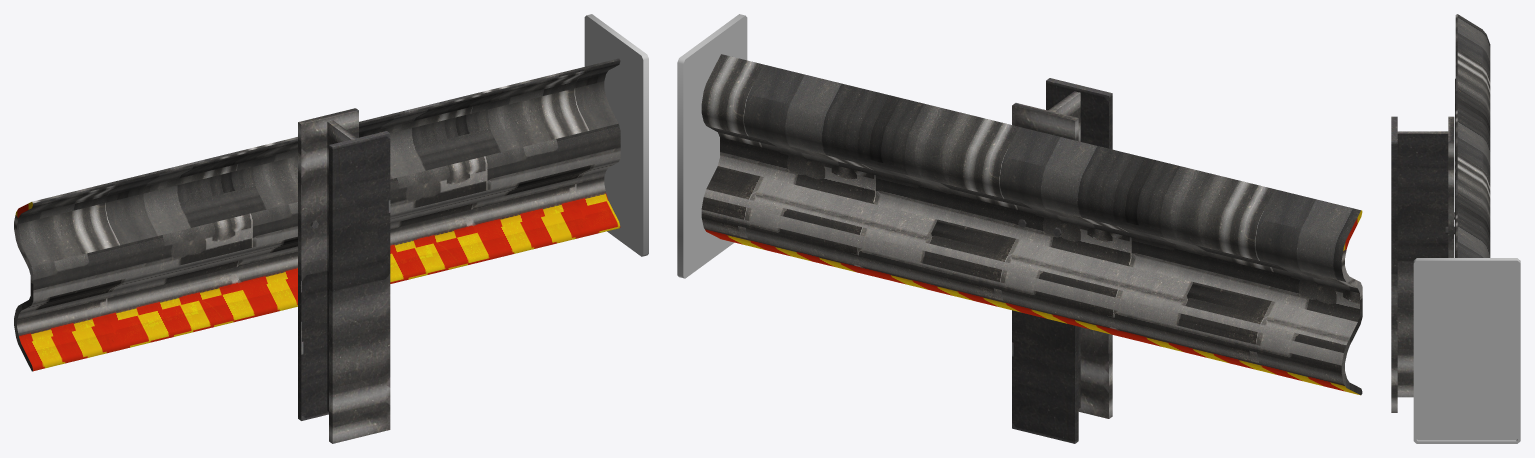
Rendered from Rail 9.FBX.
The picture shows the model from 3 angles, left to right: view 1: azimuth 30°, elevation 25°; view 2: azimuth 150°, elevation 25°; view 3: azimuth 270°, elevation 25°; orthographic projection. The views are drawn at different scales.
Visible parts, largest first — view 1: guardrail_endsign_left_b; view 2: guardrail_endsign_left_b; view 3: guardrail_endsign_left_b.
Boxes of the visible parts, box(x1,y1,x2,y2) form: guardrail_endsign_left_b: box(14, 14, 648, 443); guardrail_endsign_left_b: box(677, 14, 1362, 443); guardrail_endsign_left_b: box(1391, 14, 1520, 443).
Size of the model in its own units: 211 by 102 by 43.64.
